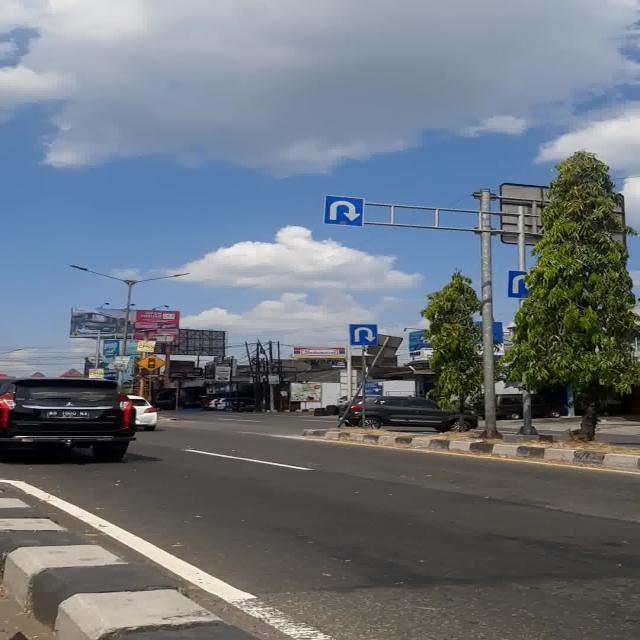Putar Balik: (323, 195, 365, 227), (348, 324, 378, 346)
